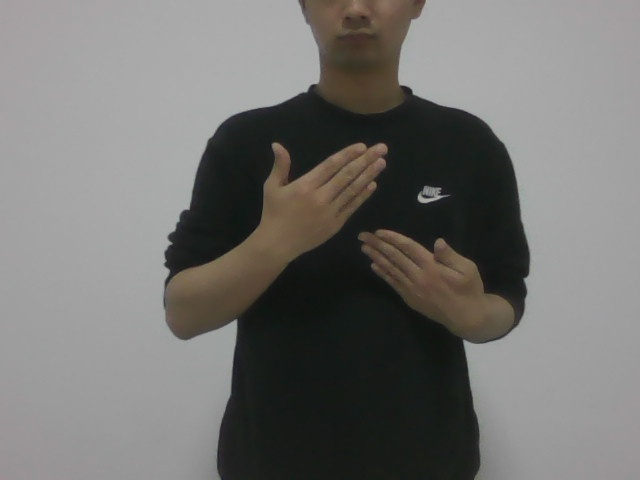tea: (245, 139, 499, 340)
